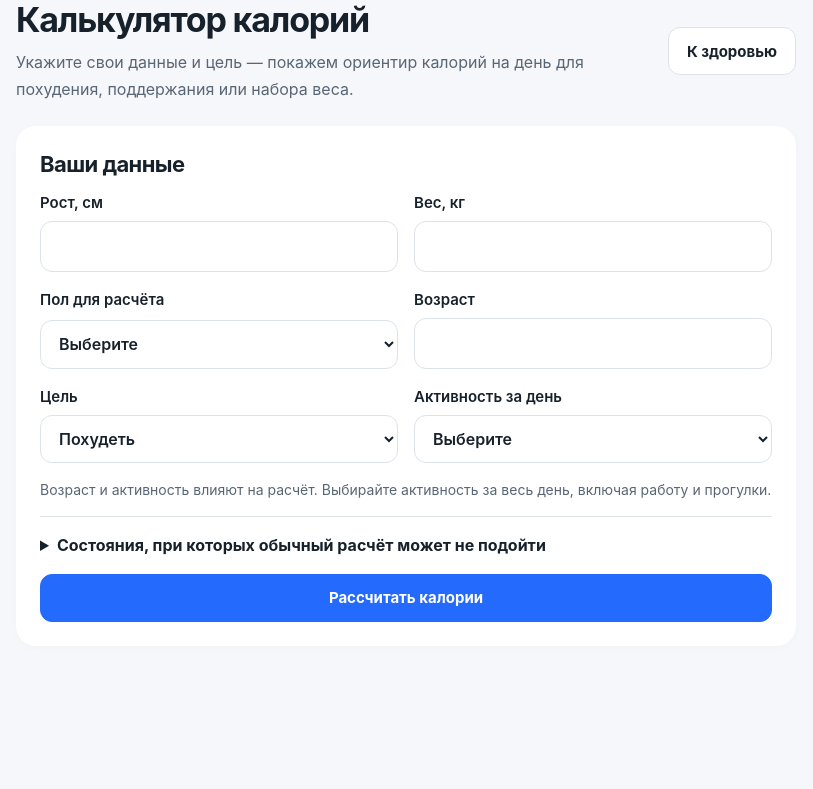
Test case: calculator puts the goal and required inputs before one clear calculate action
This screenshot has width=813, height=789.
Expected: the heading "Калькулятор калорий" is shown, 16,0 -> 369,40
Expected: the button "Рассчитать калории" is shown, 40,574 -> 772,622
Type "30" into the number field labelled "Возраст". click: (593,344)
box: 414,318 -> 772,369
Type "180" into the number field labelled "Рост, см". click: (219,246)
box: 40,221 -> 398,272
Type "80" into the number field labelled "Вес, кг". click: (593,246)
box: 414,221 -> 772,272
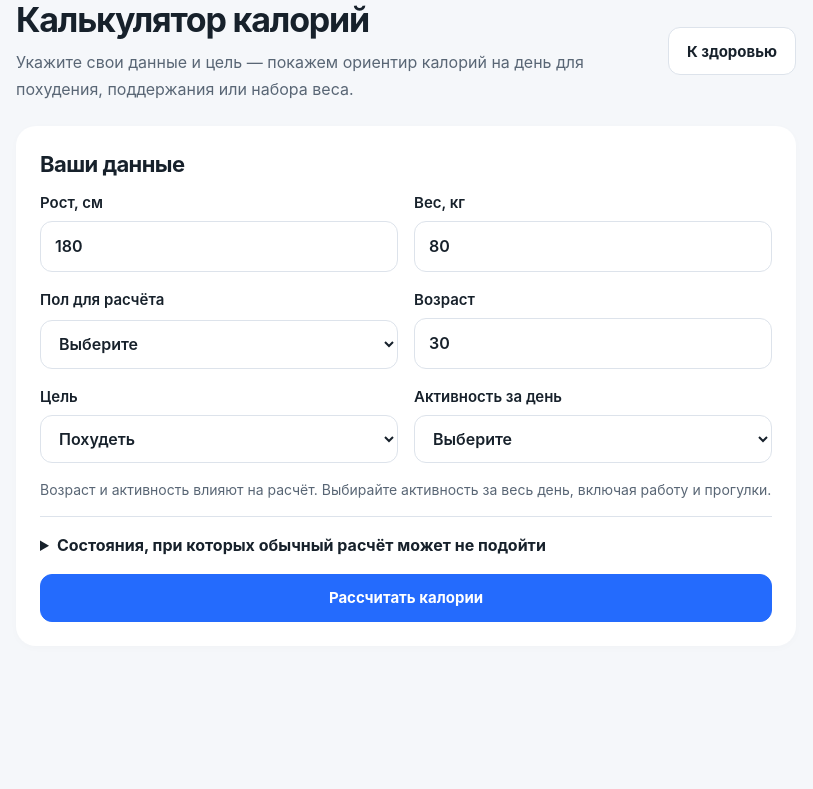
Select "Мужской" in the dropdown labelled "Пол для расчёта". click: (219,344)
box: 40,320 -> 398,369
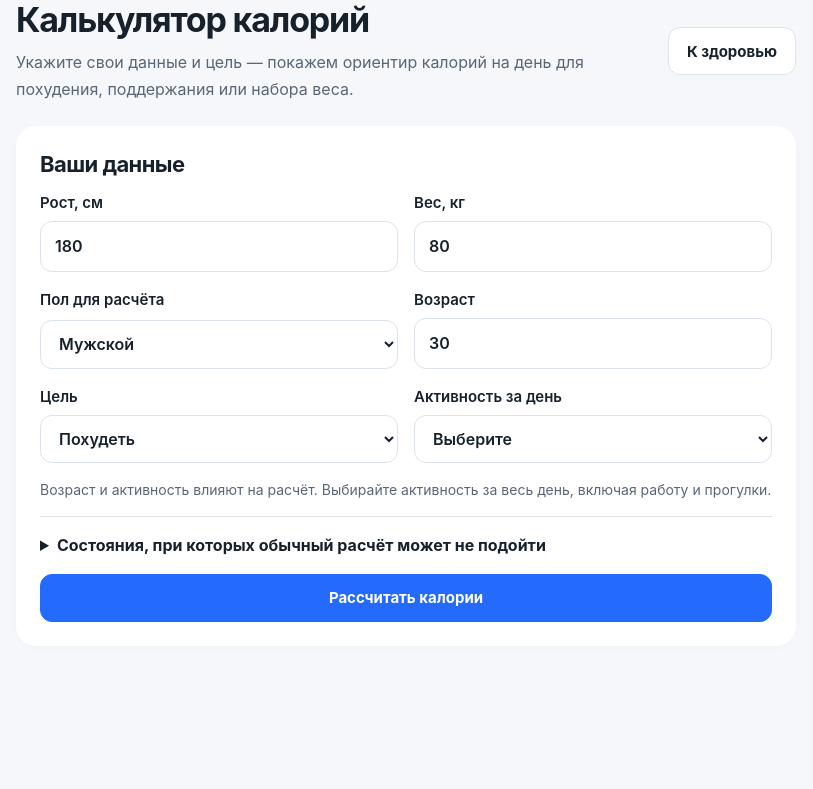
Select "Набрать вес" in the dropdown labelled "Цель". click: (219,439)
box: 40,415 -> 398,463
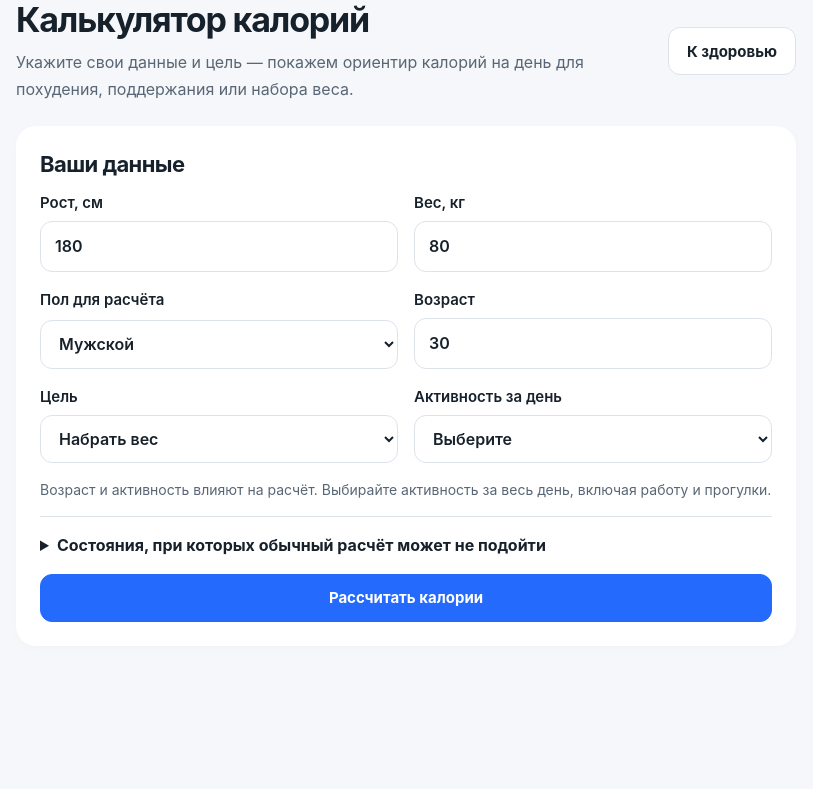
Click the button "Рассчитать калории". click: (406,598)
box: 40,574 -> 772,622
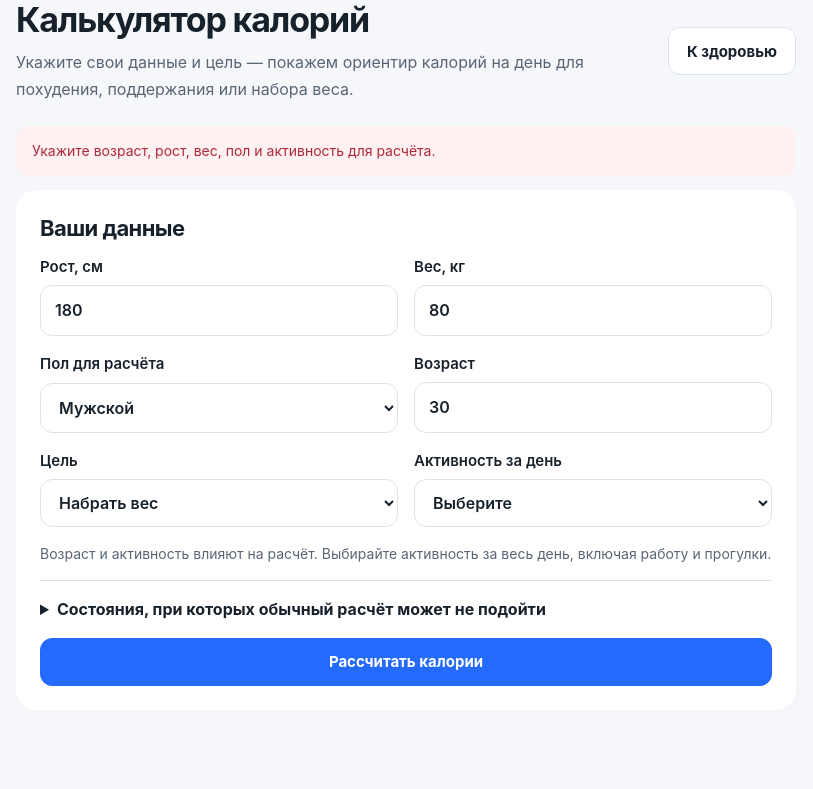
Expected: the message shows "активность", 32,142 -> 436,159
Select "Небольшая" in the dropdown labelled "Активность за день". click: (593,503)
box: 414,479 -> 772,527
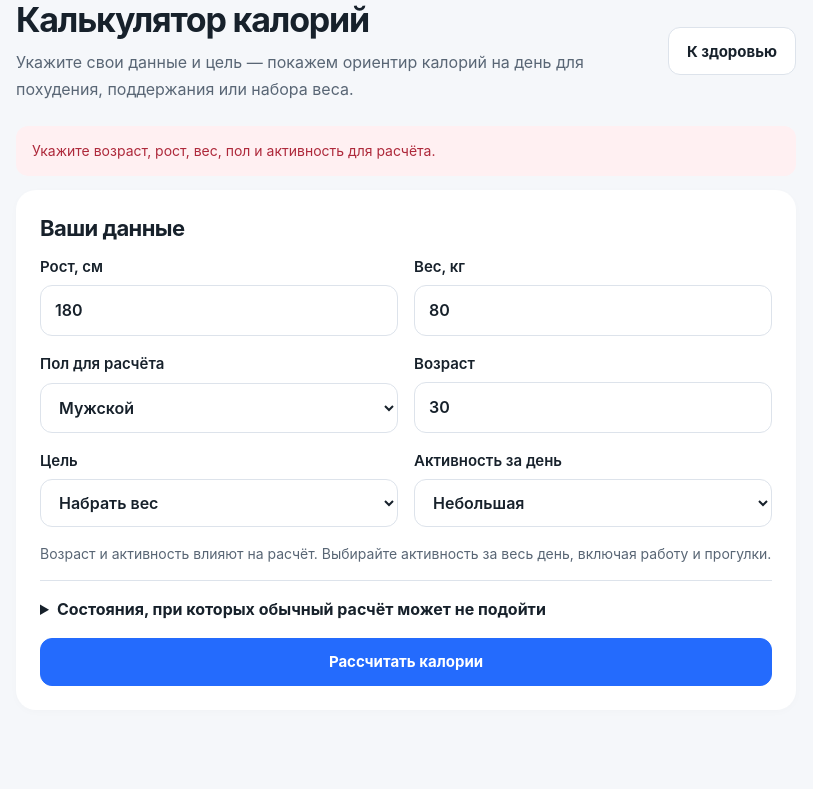
Click the button "Рассчитать калории". click: (406,662)
box: 40,638 -> 772,686
(page scrolled)
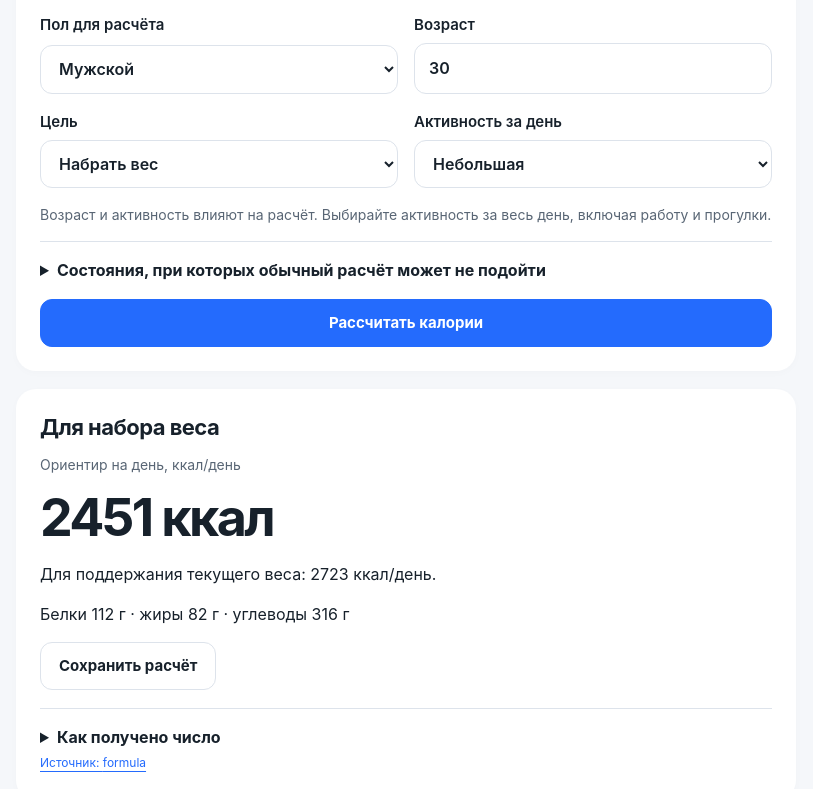
Expected: the text "2451 ккал" is shown, 40,486 -> 273,548
Expected: the button "Сохранить расчёт" is shown, 40,642 -> 216,690
